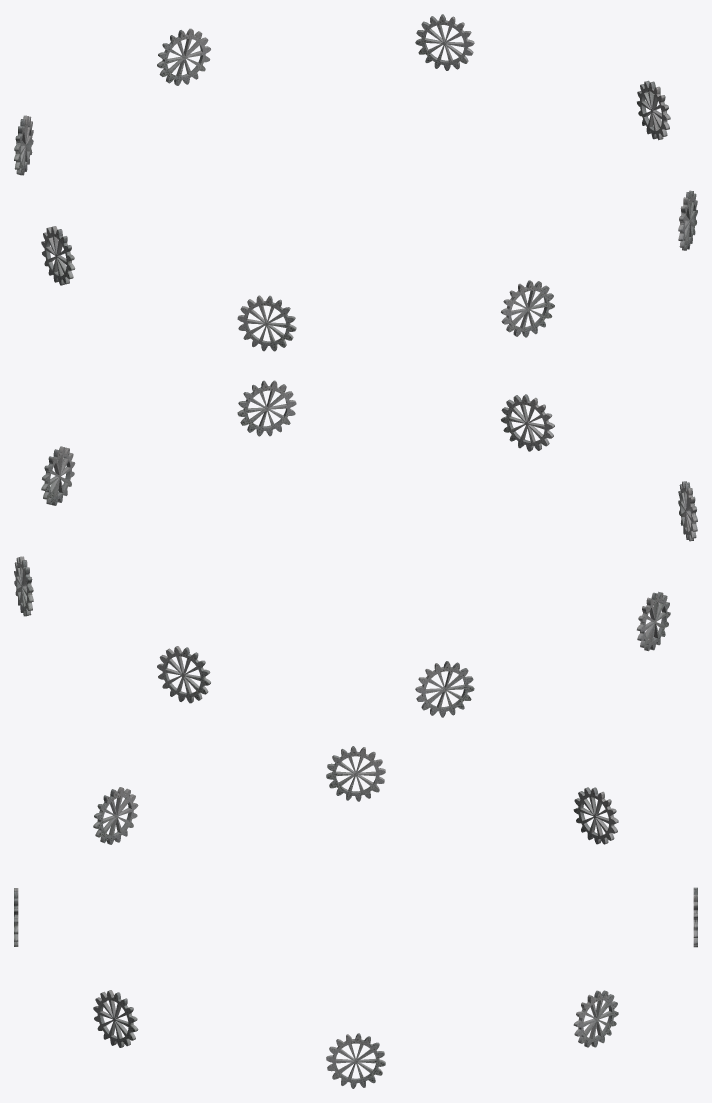
The picture shows the model from 3 angles, top to bottom: view 1: azimuth 30°, elevation 25°; view 2: azimuth 150°, elevation 25°; view 3: azimuth 270°, elevation 25°; orthographic projection.
Parts seen in each view (by area): view 1: 05_VZ; view 2: 05_VZ; view 3: 05_VZ.
Boxes of the visible parts, x1=… form: 05_VZ: x1=14, y1=14, x2=697, y2=351; 05_VZ: x1=14, y1=380, x2=697, y2=717; 05_VZ: x1=14, y1=746, x2=697, y2=1088.
Bounding box in the file's own units: 3110 × 270 × 3110.
